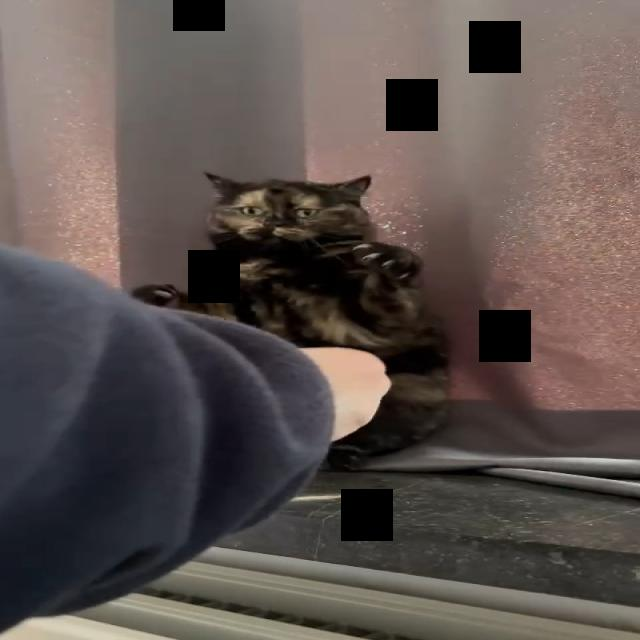authorized: (132, 170, 453, 470)
